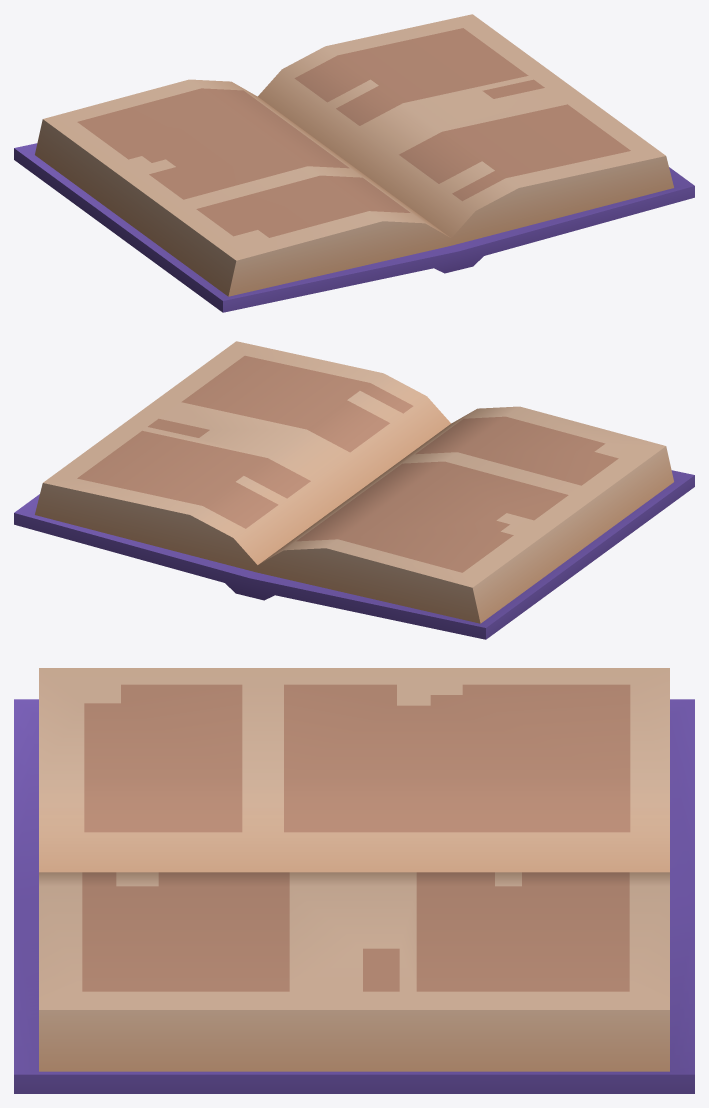
File: BookOpen4.fbx
3 views of the same model, one above another, from view 1: azimuth 30°, elevation 25°; view 2: azimuth 150°, elevation 25°; view 3: azimuth 270°, elevation 25° (orthographic). The views are drawn at different scales.
Parts seen in each view (by area): view 1: BookOpen4; view 2: BookOpen4; view 3: BookOpen4.
Part boxes in pixels (x1,y1,x2,y2): BookOpen4: (14, 14, 694, 312); BookOpen4: (14, 341, 694, 639); BookOpen4: (14, 668, 694, 1093).
Bounding box in the file's own units: 43.62 × 5.29 × 33.45.
